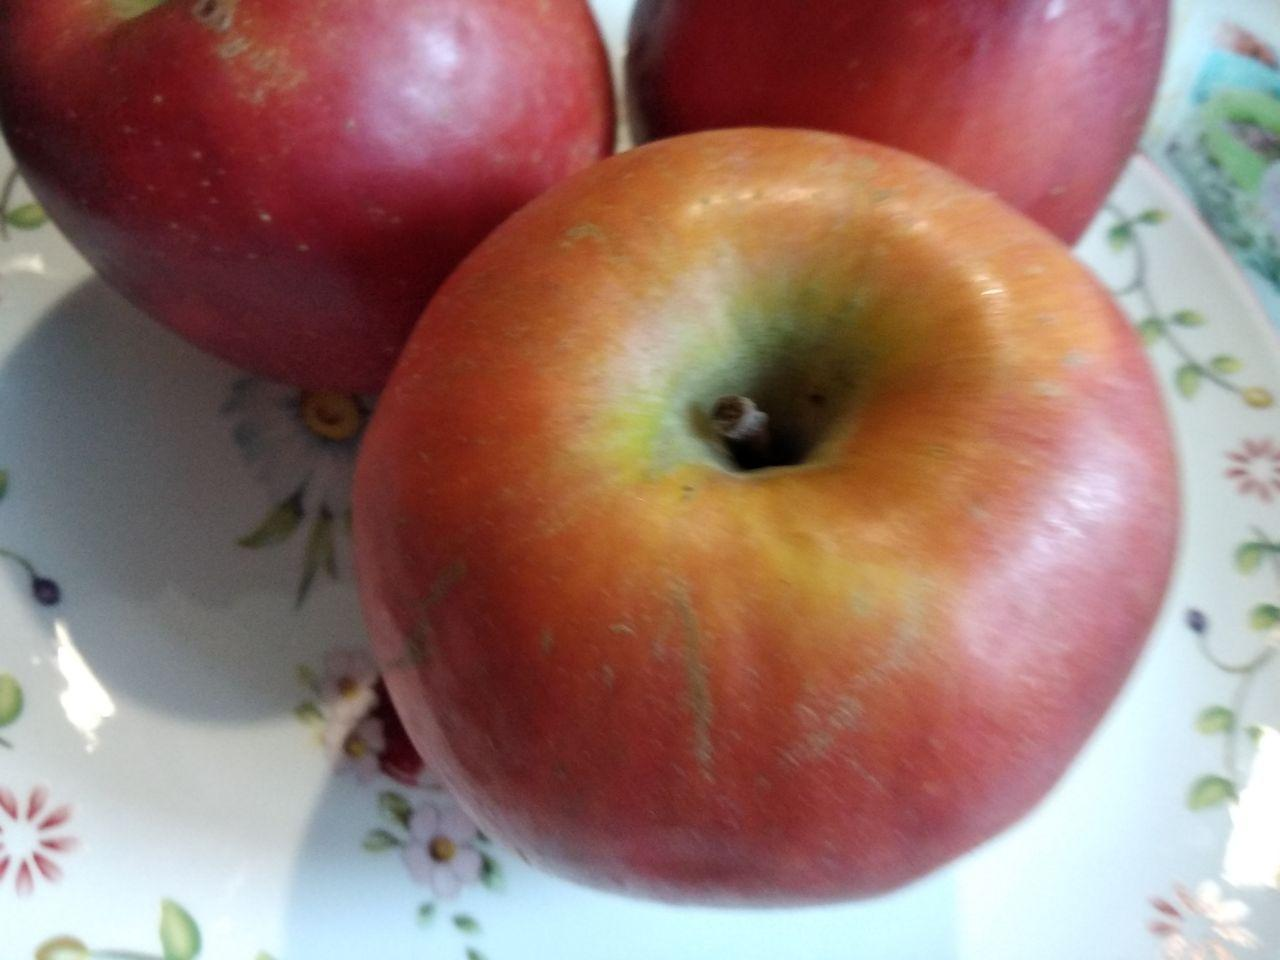Apple: (352, 122, 1187, 914)
